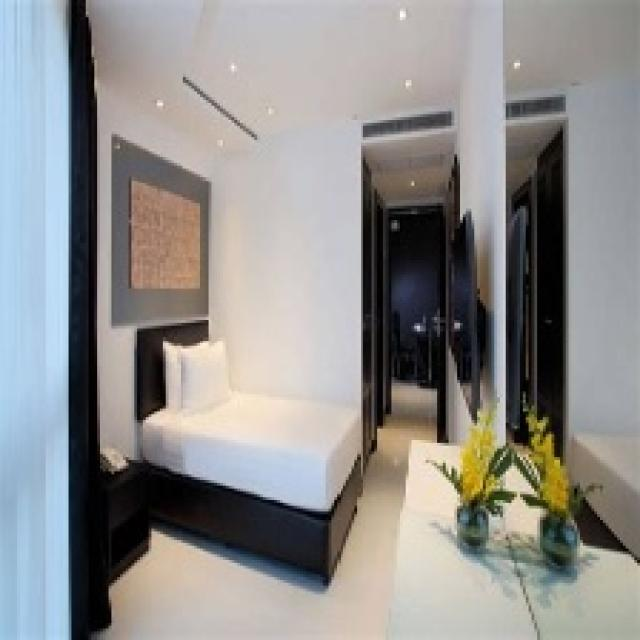bed: (136, 326, 366, 590)
couch: (136, 326, 367, 591)
